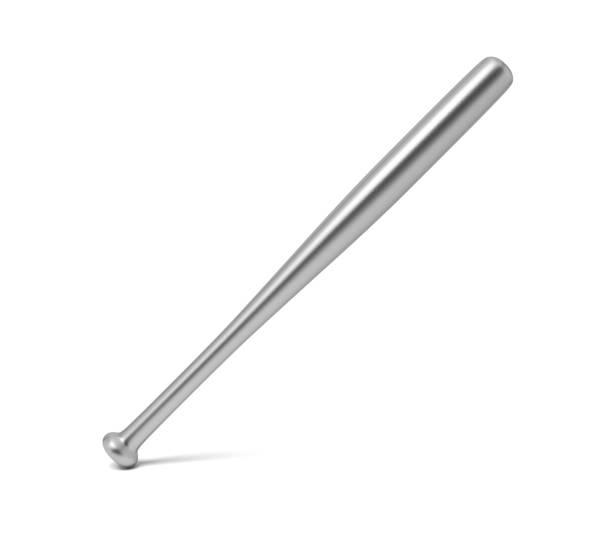bita: (102, 62, 506, 465)
